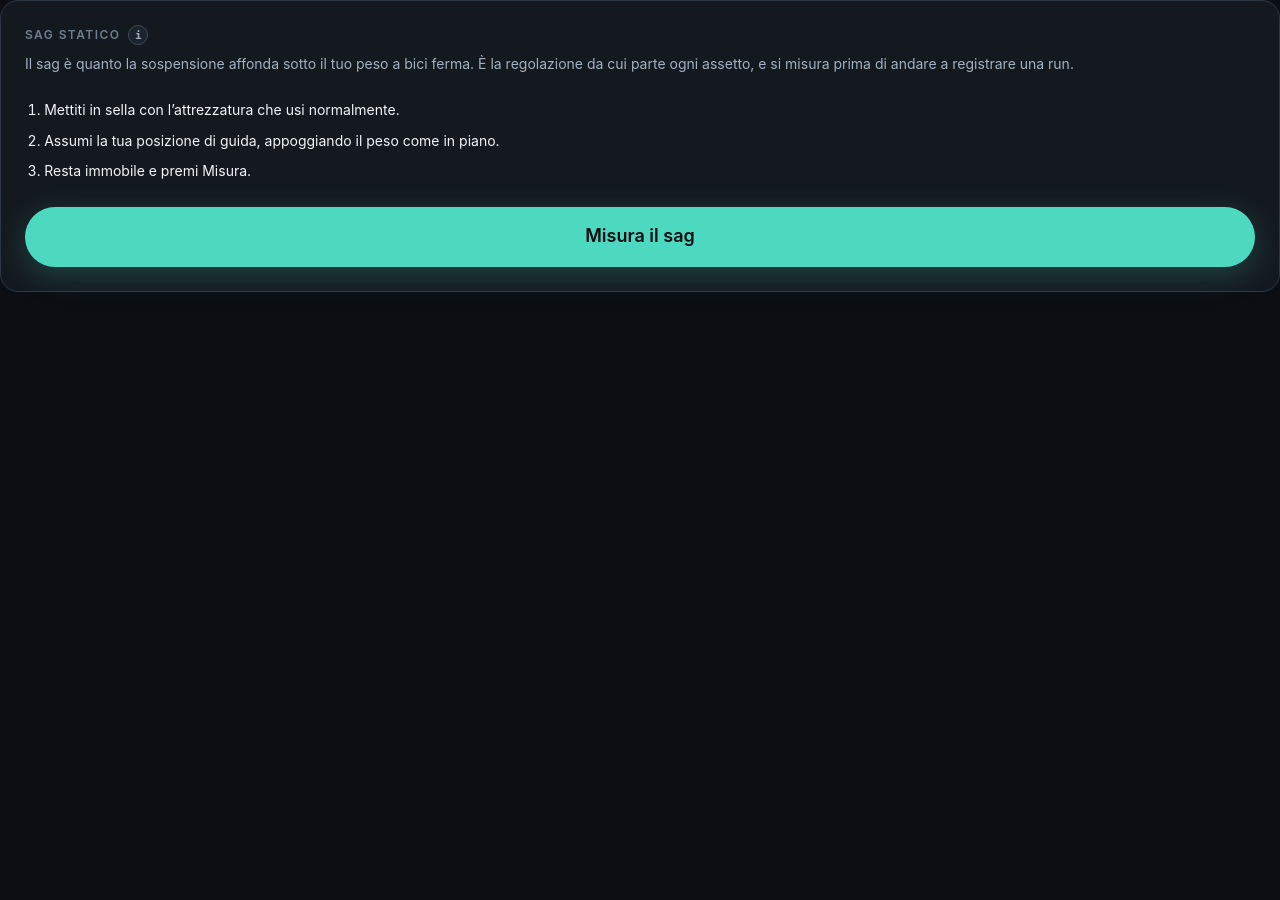
Test: flusso di misura del sag › misura un sag corretto e non propone modifiche
The width and height of the screenshot is (1280, 900).
Click the button "Misura il sag" at [640, 237], box [25,207,1255,267]
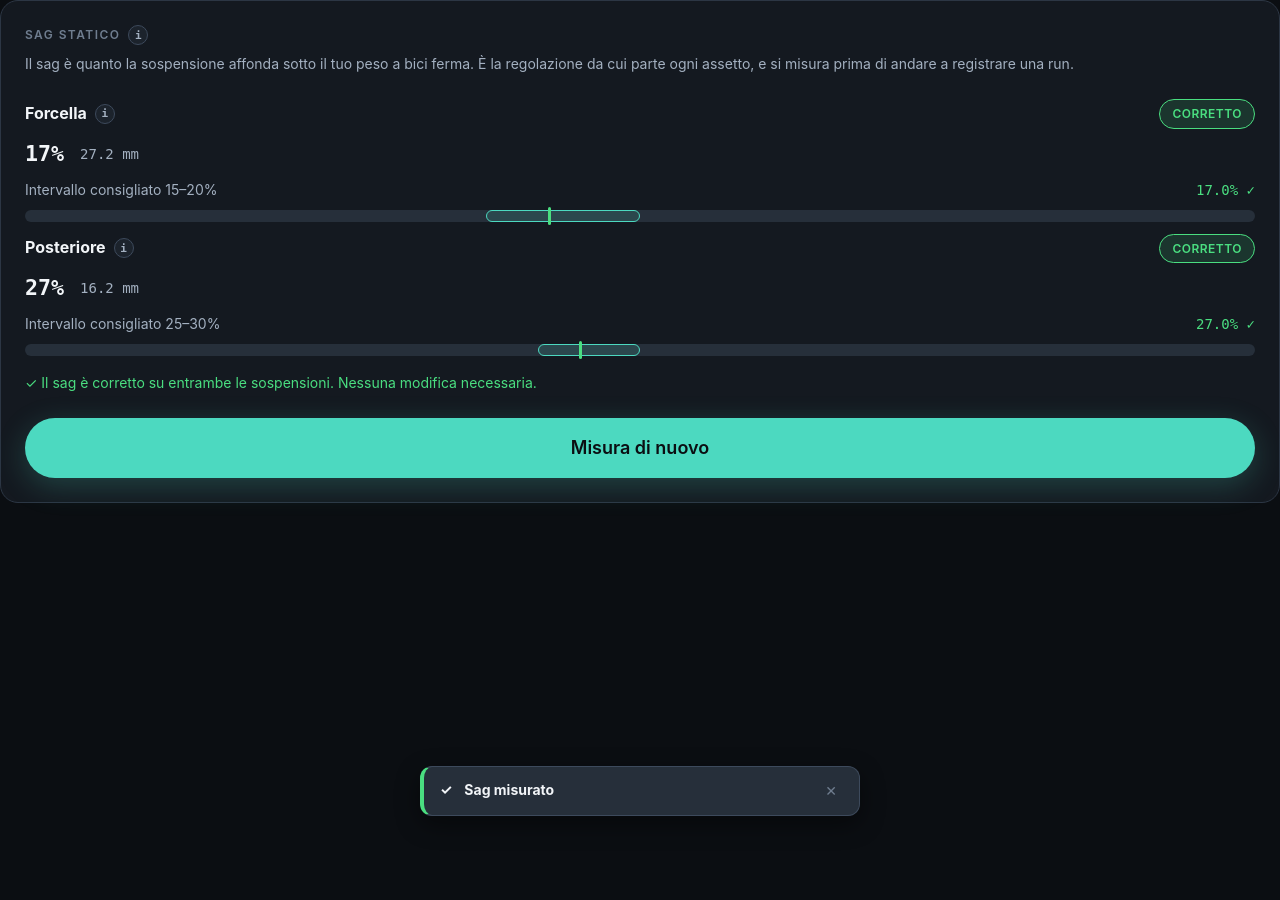
Expected: the text "Il sag è corretto" is shown, [25,374,149,391]
